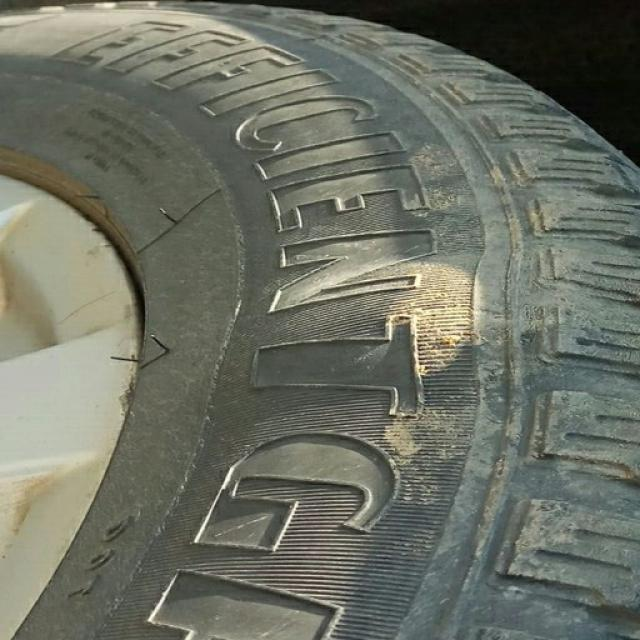Bulge: (232, 244, 530, 414)
